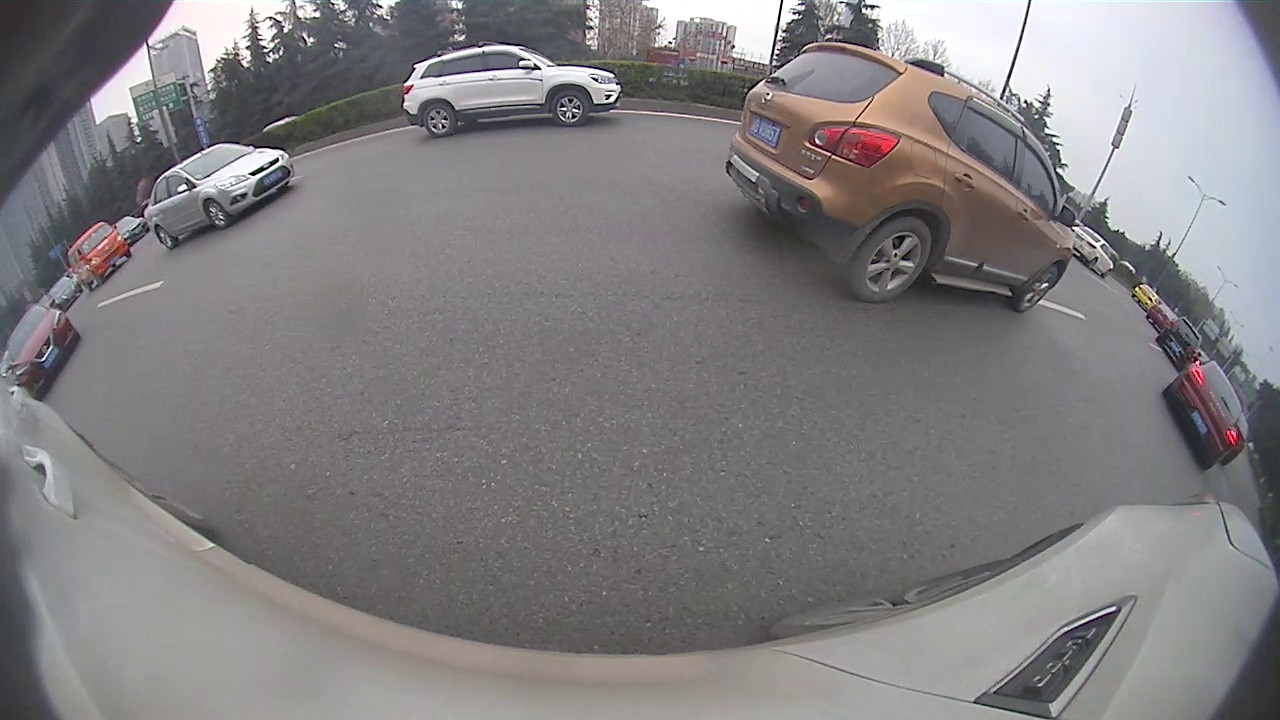car: (725, 39, 1077, 314), (399, 41, 625, 140), (143, 142, 295, 250), (1163, 360, 1247, 470), (2, 303, 81, 401), (66, 220, 132, 292), (1155, 316, 1202, 372), (1073, 225, 1116, 280)
front: (1011, 264, 1061, 313), (552, 88, 588, 126), (205, 201, 230, 231)
rear: (847, 214, 933, 305), (423, 101, 454, 139), (156, 225, 176, 251)
